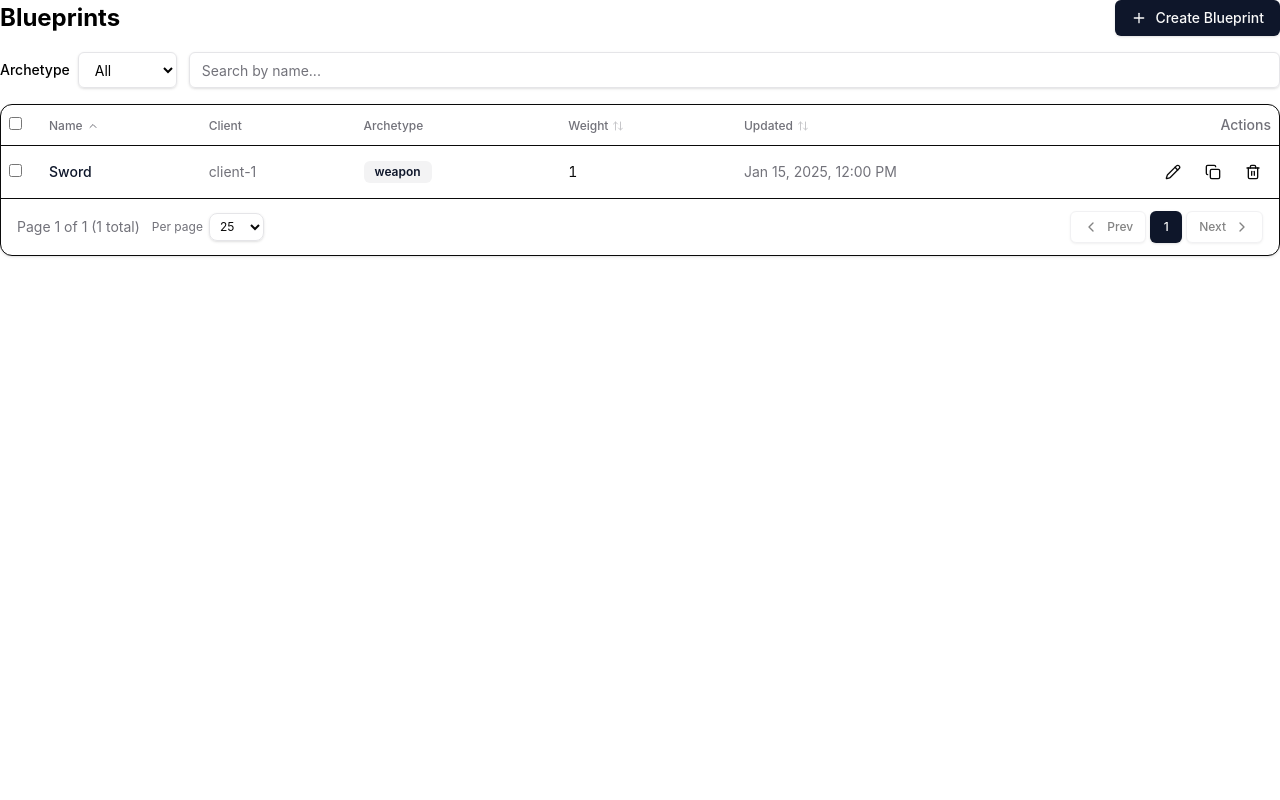
Blueprints list page › shows batch delete confirmation dialog
This screenshot has width=1280, height=800.
Click the checkbox named "Select Sword" at (16, 170), box [9,164,22,176]
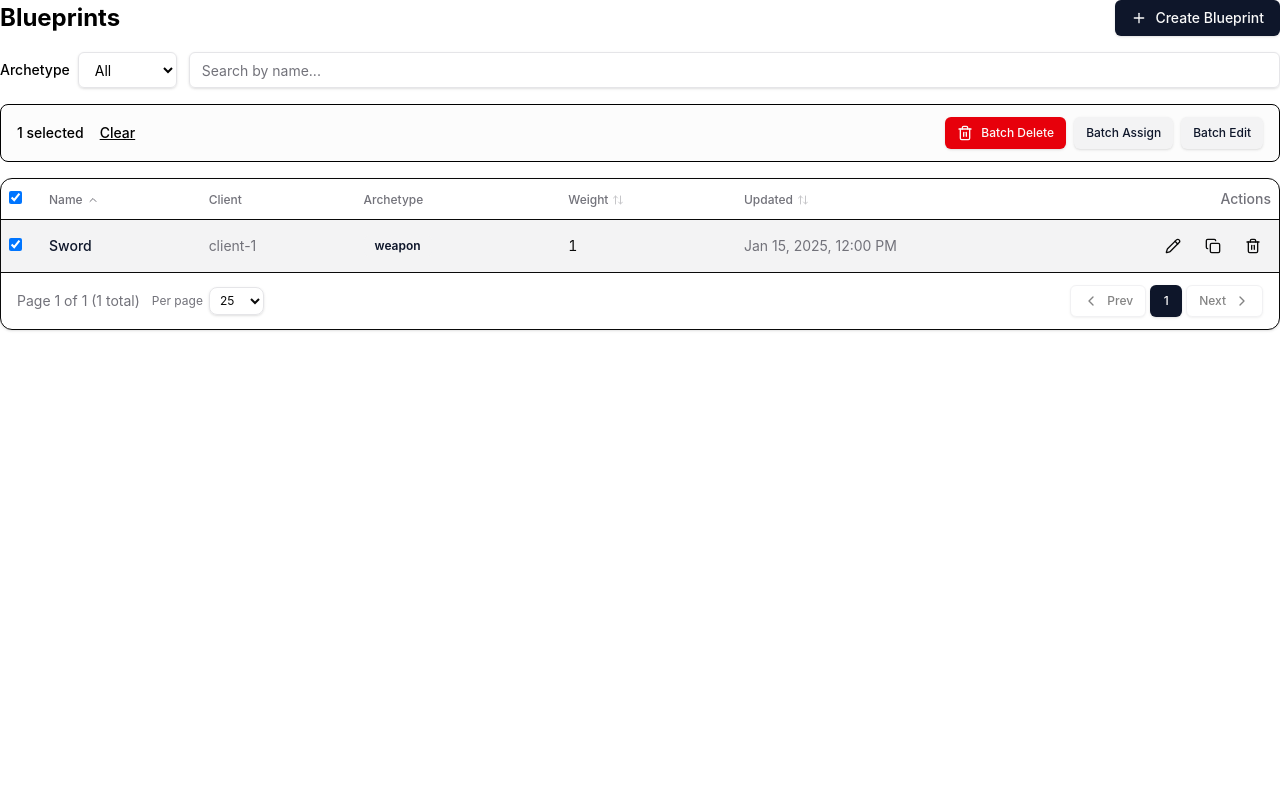
Click the button "Batch Delete" at (1006, 133), box [945,117,1066,149]
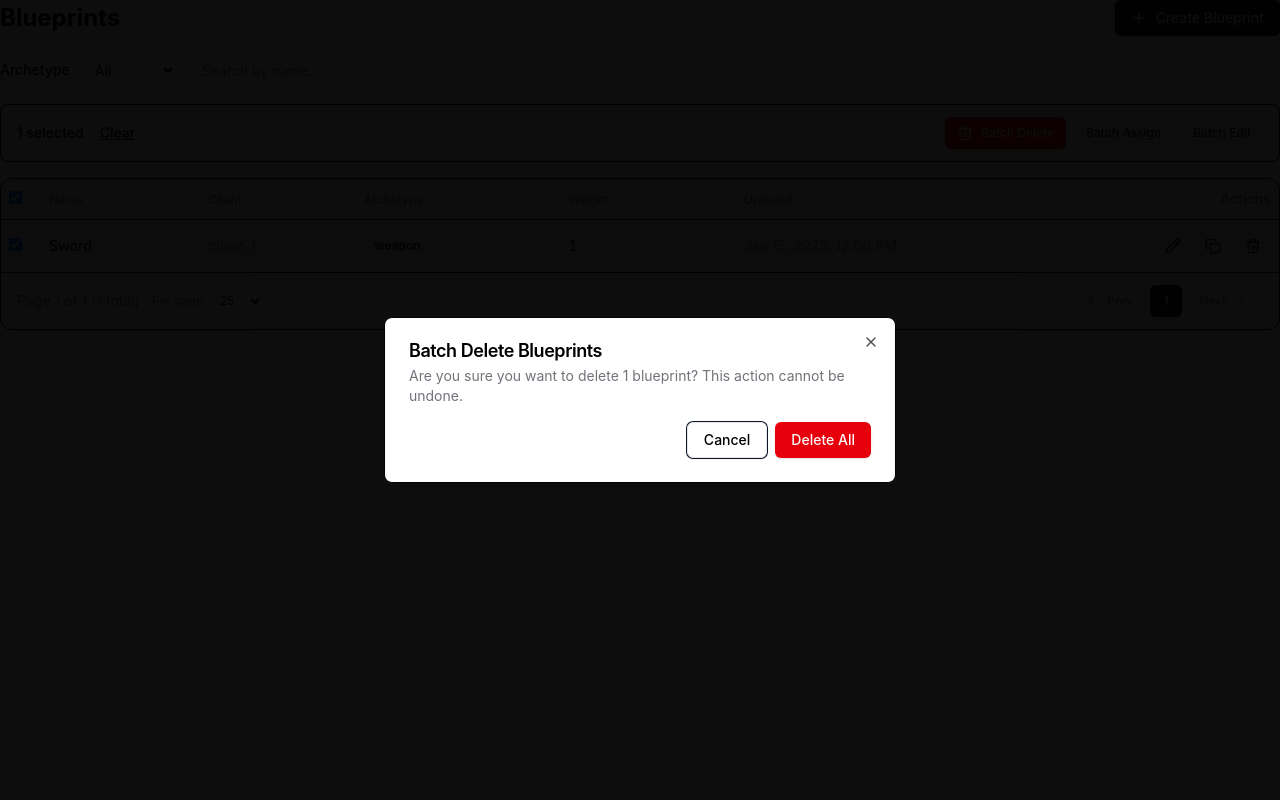
expect the heading "Batch Delete Blueprints" is shown: met, box [409,340,602,361]
